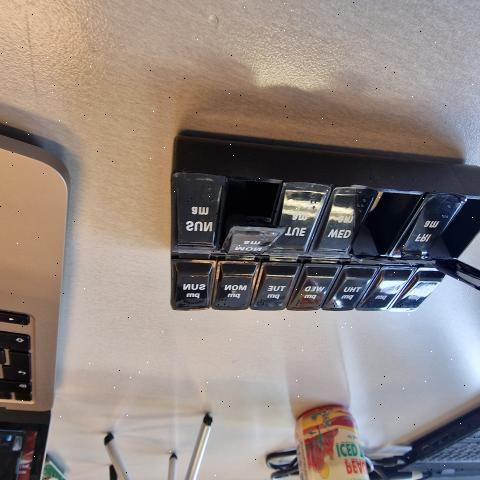Open: (217, 180, 284, 250), (350, 193, 423, 257), (431, 198, 480, 291)
